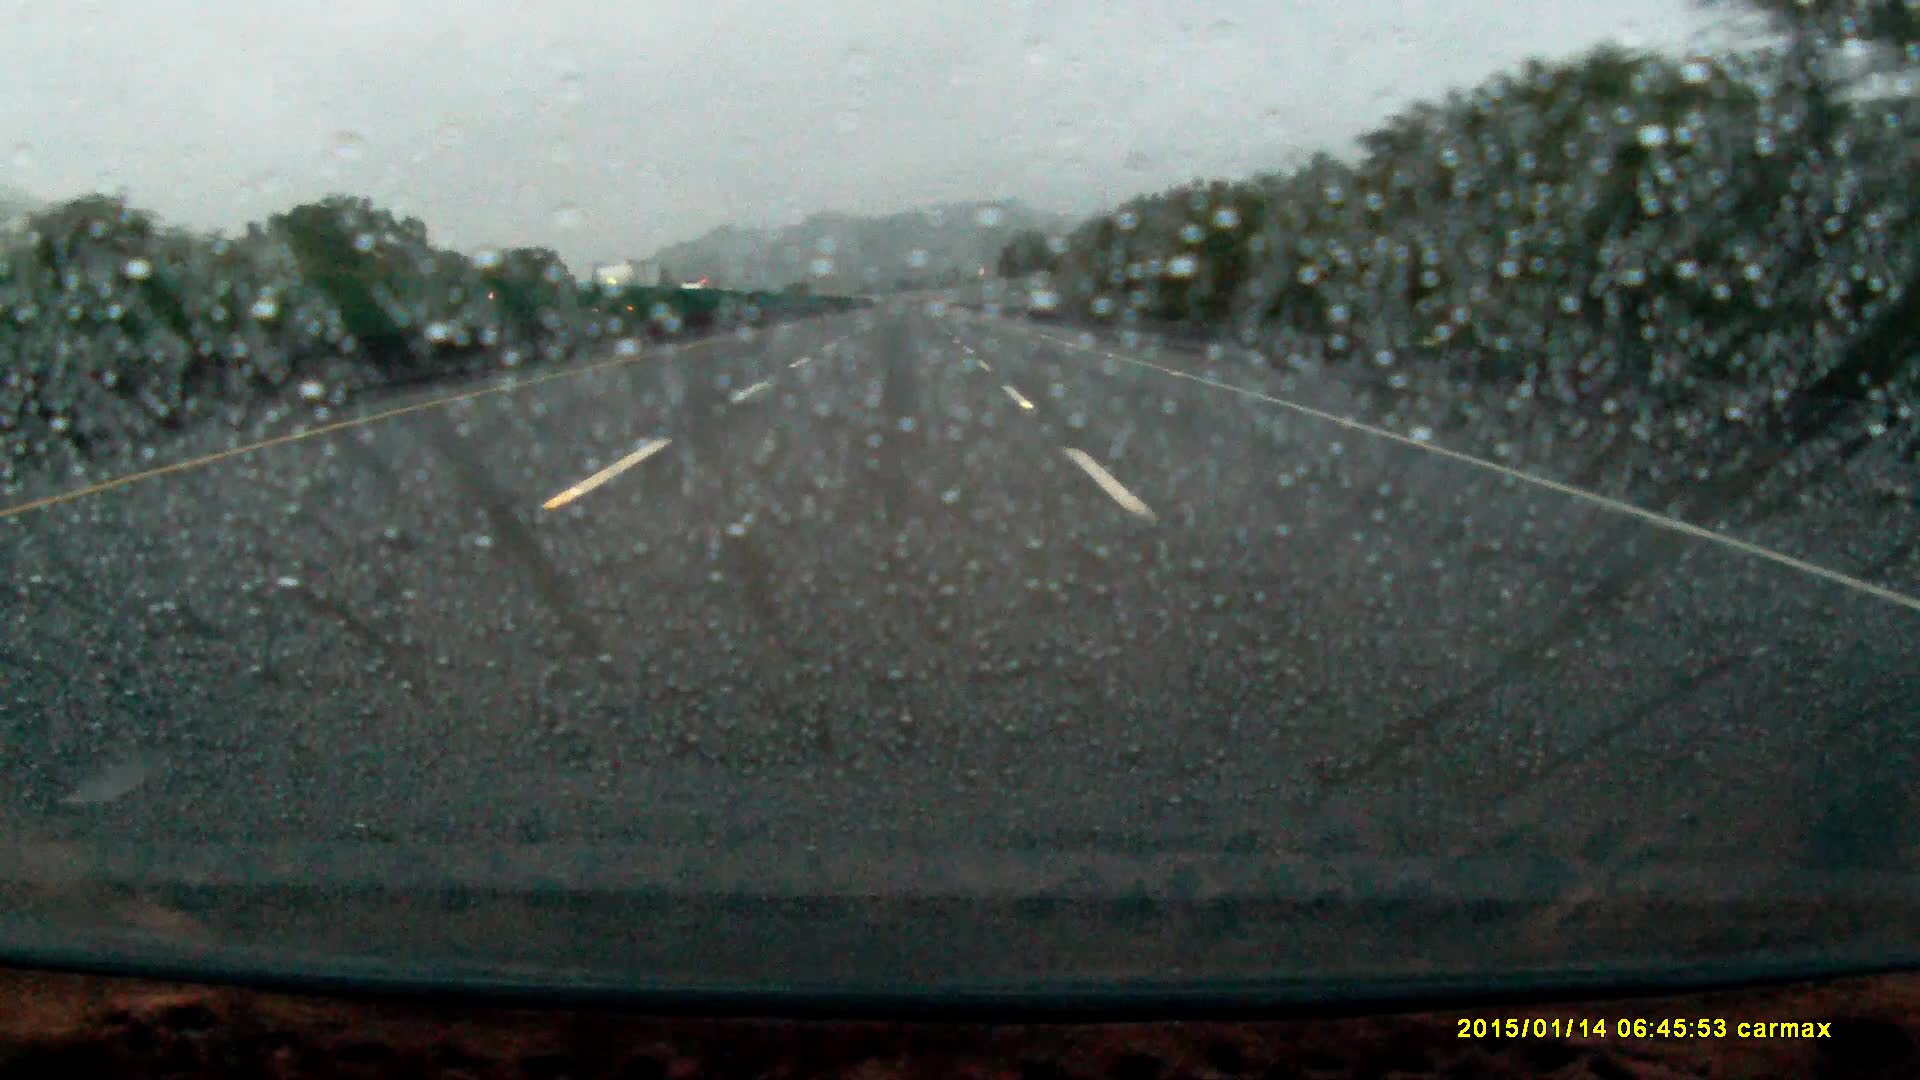vehicle: (680, 277, 713, 305)
